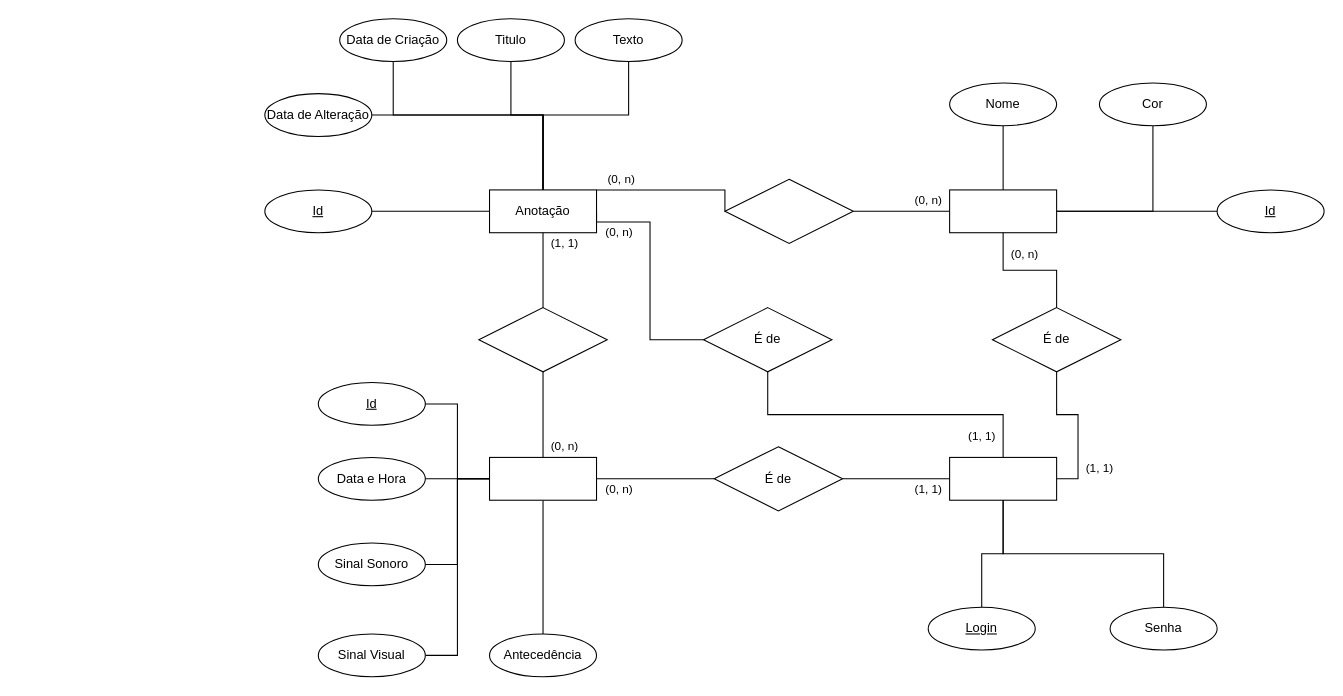
The diagram is 1343 pixels wide and 696 high, and some of its shapes have lost their labels. Here are the shapes that lost their labels. From the top down, the box of each, then its label:
(724, 178, 853, 243): Possui
(949, 189, 1057, 233): Rótulo
(478, 307, 607, 372): Está vinculado a
(488, 456, 597, 500): Lembrete
(949, 456, 1057, 500): Usuário
